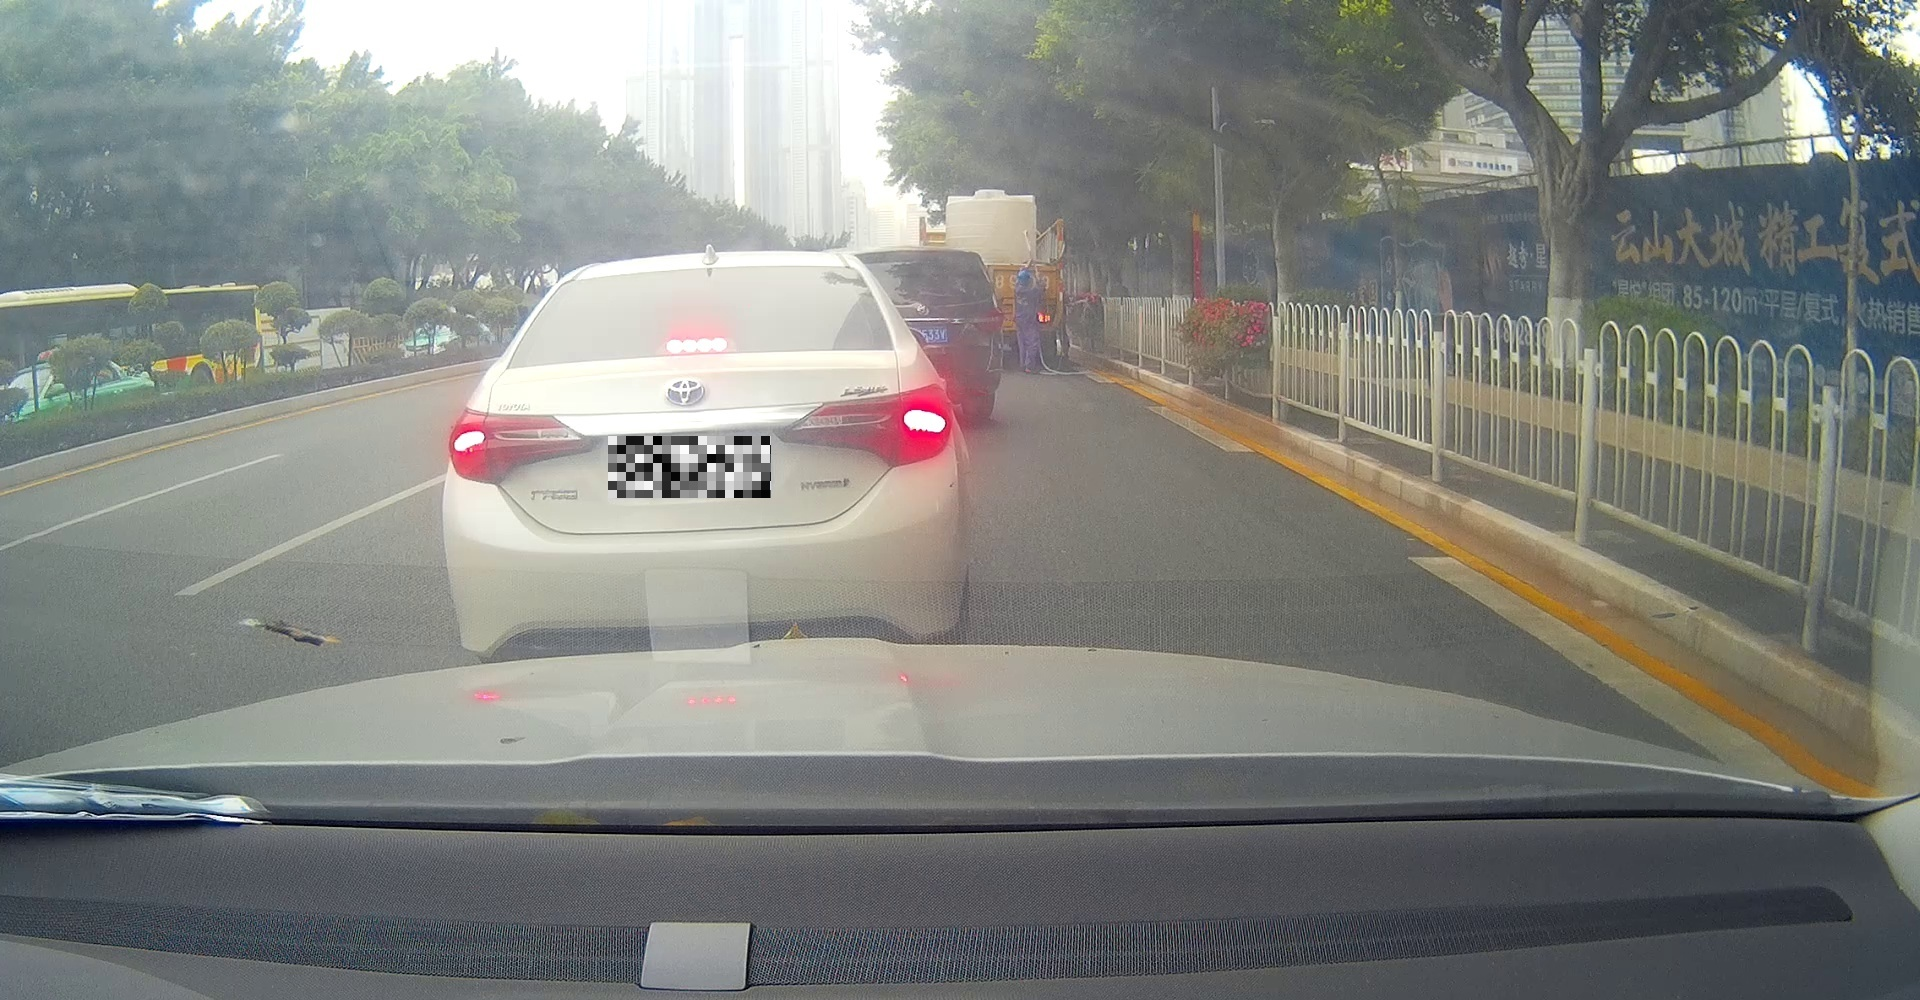L_light: (447, 407, 594, 485)
R_light: (775, 383, 952, 464)
T_light: (667, 336, 729, 355)
day-brake: (439, 251, 971, 671)
plate_1: (608, 437, 771, 497)
